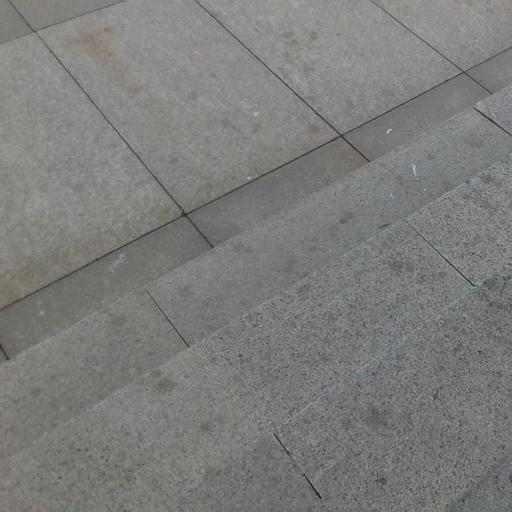stairs: (0, 90, 511, 511)
